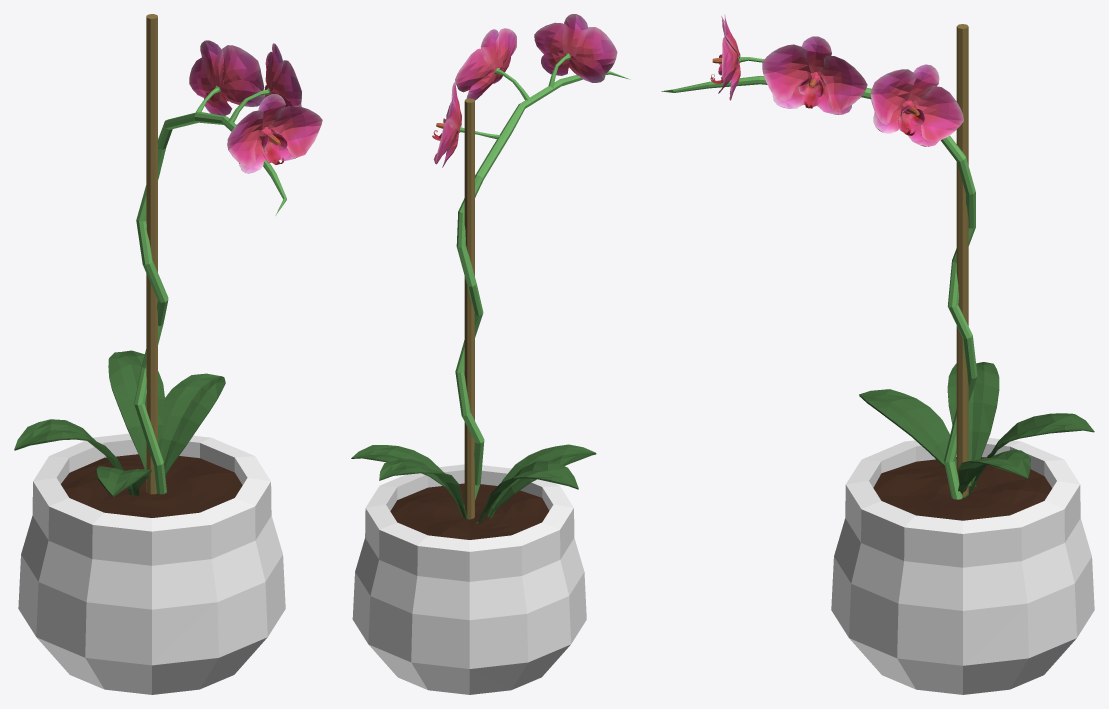
The picture shows the model from 3 angles, left to right: view 1: azimuth 30°, elevation 25°; view 2: azimuth 150°, elevation 25°; view 3: azimuth 270°, elevation 25°; orthographic projection. The views are drawn at different scales.
Parts seen in each view (by area): view 1: Node; view 2: Node; view 3: Node.
Part boxes in pixels (bbox=[...]): Node: bbox=[14, 14, 322, 694]; Node: bbox=[351, 14, 630, 694]; Node: bbox=[661, 14, 1094, 694].
Bounding box in the file's own units: 3.17 × 8 × 4.9.
Materials: 2 (2 with a texture image).
